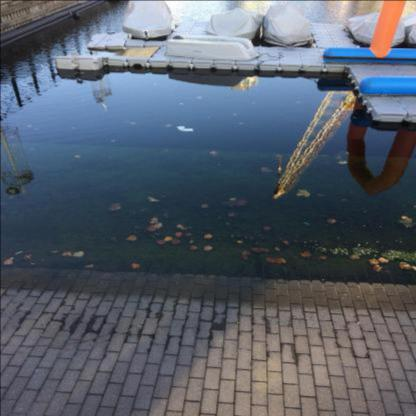Other plastic: (176, 126, 192, 131)
